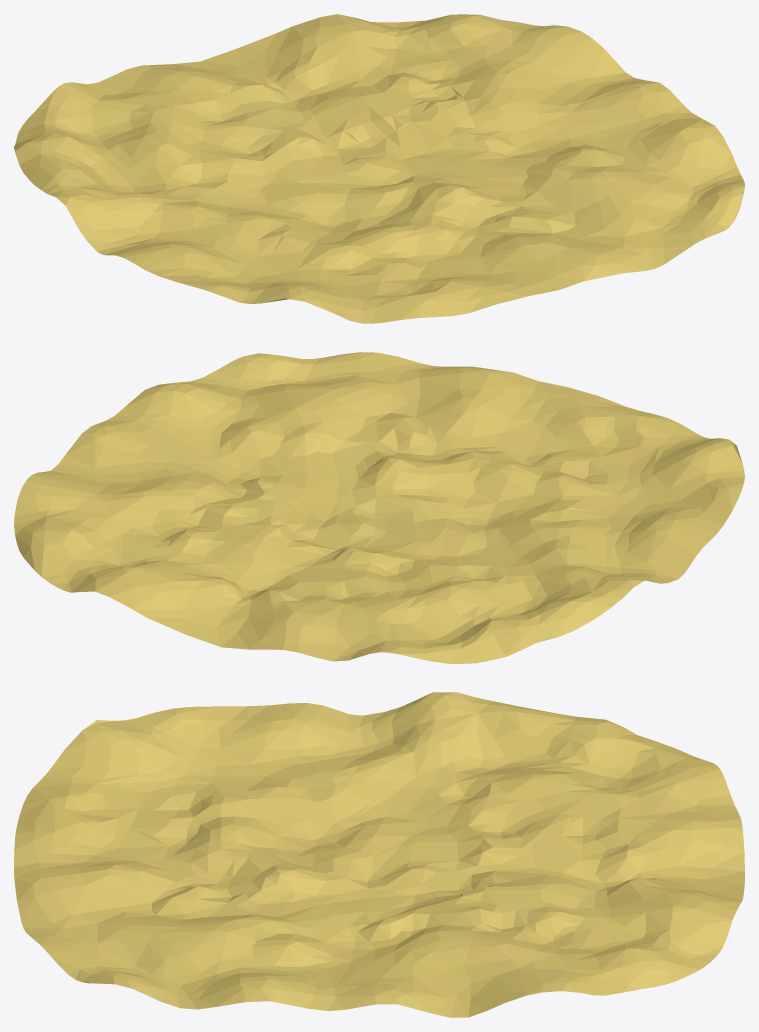
Rendered from terrain9.fbx.
3 views of the same model, one above another, from view 1: azimuth 30°, elevation 25°; view 2: azimuth 150°, elevation 25°; view 3: azimuth 270°, elevation 25° (orthographic). The views are drawn at different scales.
Visible parts, largest first — view 1: terrain9; view 2: terrain9; view 3: terrain9.
Part boxes in pixels (x1,y1,x2,y2): terrain9: (14, 14, 744, 323); terrain9: (14, 352, 744, 663); terrain9: (14, 692, 744, 1017).
Bounding box in the file's own units: 4964 × 315 × 5011.
